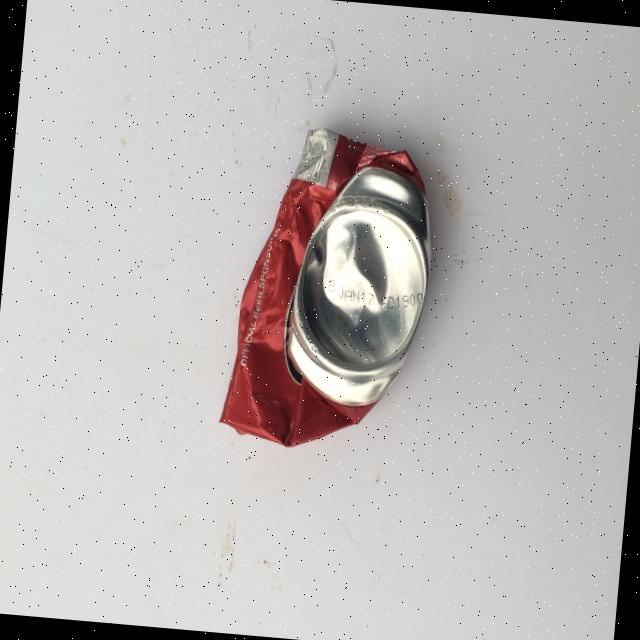metal: (277, 156, 438, 412)
